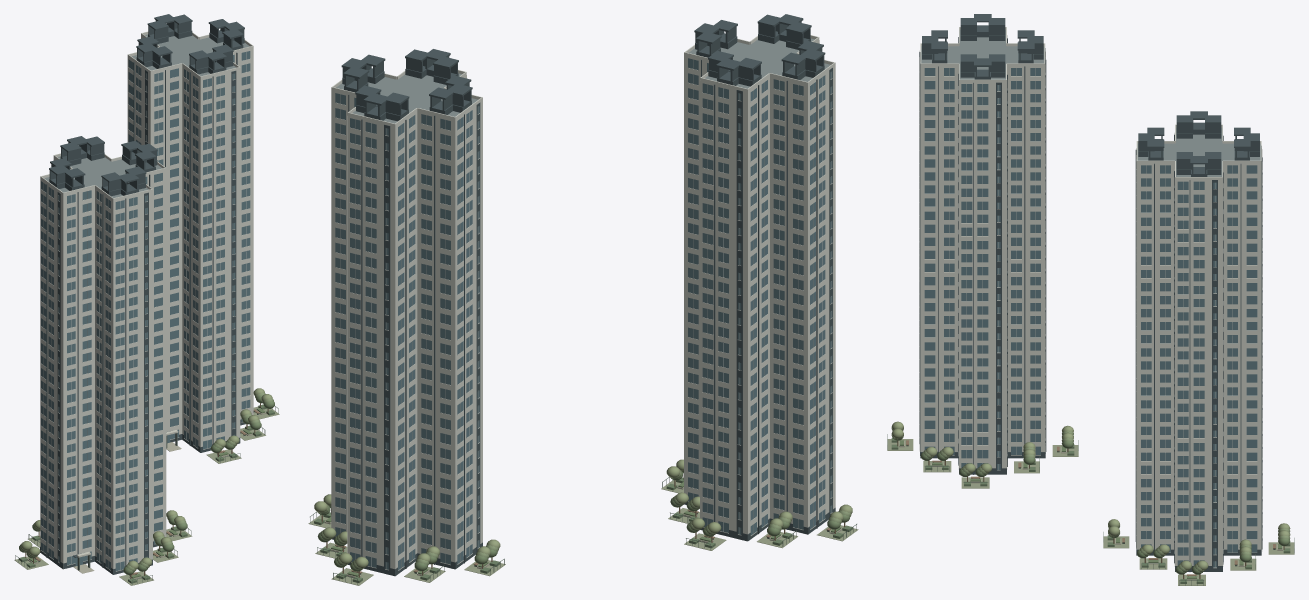
3 renders of one model, left to right at view 1: azimuth 30°, elevation 25°; view 2: azimuth 150°, elevation 25°; view 3: azimuth 270°, elevation 25°, orthographic. The views are drawn at different scales.
Parts seen in each view (by area): view 1: korean-facade-surface-d9dcd3, korean-facade-surface-69858d, korean-facade-parts-505f63, korean-facade-parts-d9dcd3, new-3, korean-facade-parts-9ba48a, korean-facade-parts-94a17c, korean-facade-parts-778b69, korean-facade-parts-718669, korean-facade-parts-889976; view 2: korean-facade-surface-d9dcd3, korean-facade-surface-69858d, korean-facade-parts-505f63, korean-facade-parts-d9dcd3, new-3, korean-facade-parts-9ba48a, korean-facade-parts-94a17c, korean-facade-parts-778b69, korean-facade-parts-718669, korean-facade-parts-889976; view 3: korean-facade-surface-d9dcd3, korean-facade-surface-69858d, korean-facade-parts-505f63, korean-facade-parts-d9dcd3, new-3, korean-facade-parts-9ba48a, korean-facade-parts-94a17c, korean-facade-parts-778b69, korean-facade-parts-889976, korean-facade-parts-718669.
Part boxes in pixels (bbox=[...]): korean-facade-surface-d9dcd3: bbox=[40, 36, 253, 568]; korean-facade-surface-69858d: bbox=[41, 51, 250, 570]; korean-facade-parts-505f63: bbox=[40, 14, 245, 574]; korean-facade-parts-d9dcd3: bbox=[40, 31, 253, 571]; new-3: bbox=[44, 34, 249, 568]; korean-facade-parts-9ba48a: bbox=[14, 406, 279, 585]; korean-facade-parts-94a17c: bbox=[21, 388, 272, 569]; korean-facade-parts-778b69: bbox=[19, 396, 274, 574]; korean-facade-parts-718669: bbox=[19, 404, 274, 583]; korean-facade-parts-889976: bbox=[20, 392, 273, 571]; korean-facade-surface-d9dcd3: bbox=[331, 40, 835, 568]; korean-facade-surface-69858d: bbox=[335, 58, 832, 570]; korean-facade-parts-505f63: bbox=[332, 14, 835, 576]; korean-facade-parts-d9dcd3: bbox=[331, 35, 835, 570]; new-3: bbox=[336, 38, 830, 533]; korean-facade-parts-9ba48a: bbox=[308, 480, 858, 585]; korean-facade-parts-94a17c: bbox=[314, 459, 852, 568]; korean-facade-parts-778b69: bbox=[317, 471, 849, 571]; korean-facade-parts-718669: bbox=[314, 477, 852, 582]; korean-facade-parts-889976: bbox=[317, 469, 851, 569]; korean-facade-surface-d9dcd3: bbox=[920, 66, 1261, 565]; korean-facade-surface-69858d: bbox=[924, 68, 1257, 567]; korean-facade-parts-505f63: bbox=[919, 14, 1262, 571]; korean-facade-parts-d9dcd3: bbox=[919, 27, 1262, 568]; new-3: bbox=[921, 30, 1260, 176]; korean-facade-parts-9ba48a: bbox=[887, 439, 1294, 585]; korean-facade-parts-94a17c: bbox=[891, 421, 1290, 570]; korean-facade-parts-778b69: bbox=[891, 428, 1290, 574]; korean-facade-parts-889976: bbox=[891, 427, 1290, 572]; korean-facade-parts-718669: bbox=[891, 438, 1290, 583].
Bounding box in the file's own units: 87.8 × 93.79 × 84.8.
